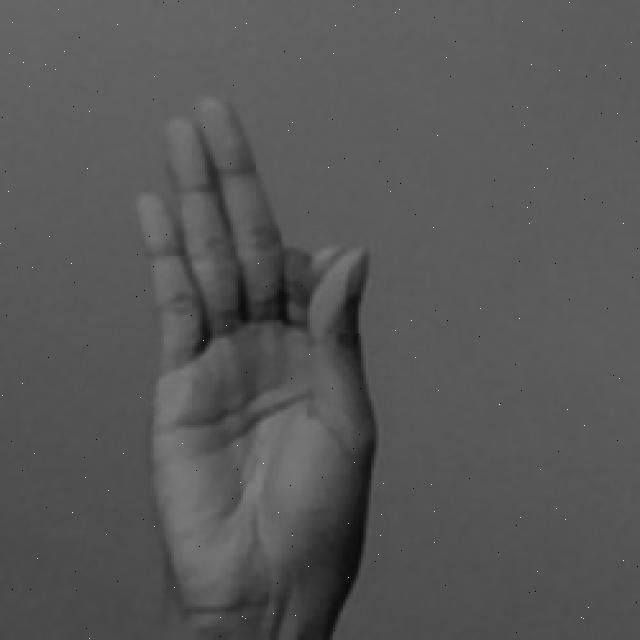F: (136, 94, 382, 640)
